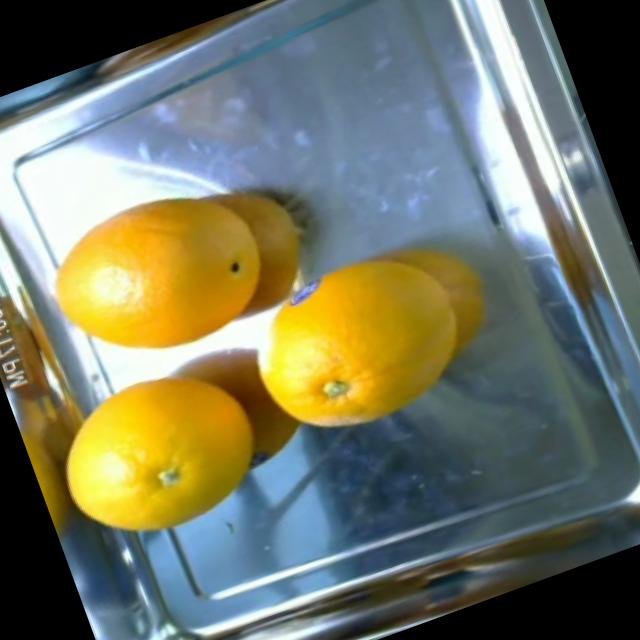Fruit: (290, 203, 527, 434)
